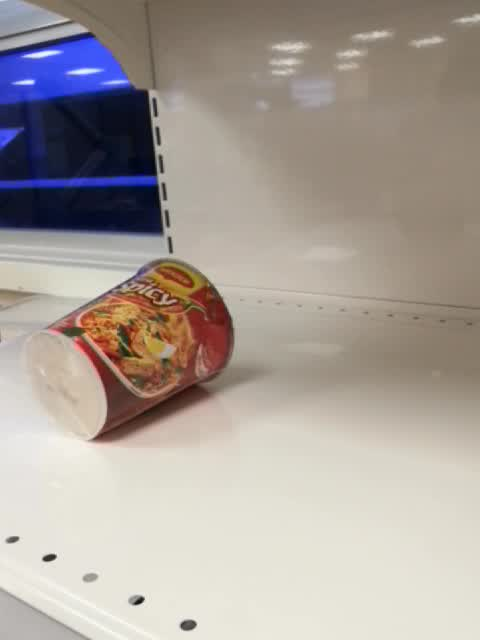maggi: (20, 257, 236, 443)
